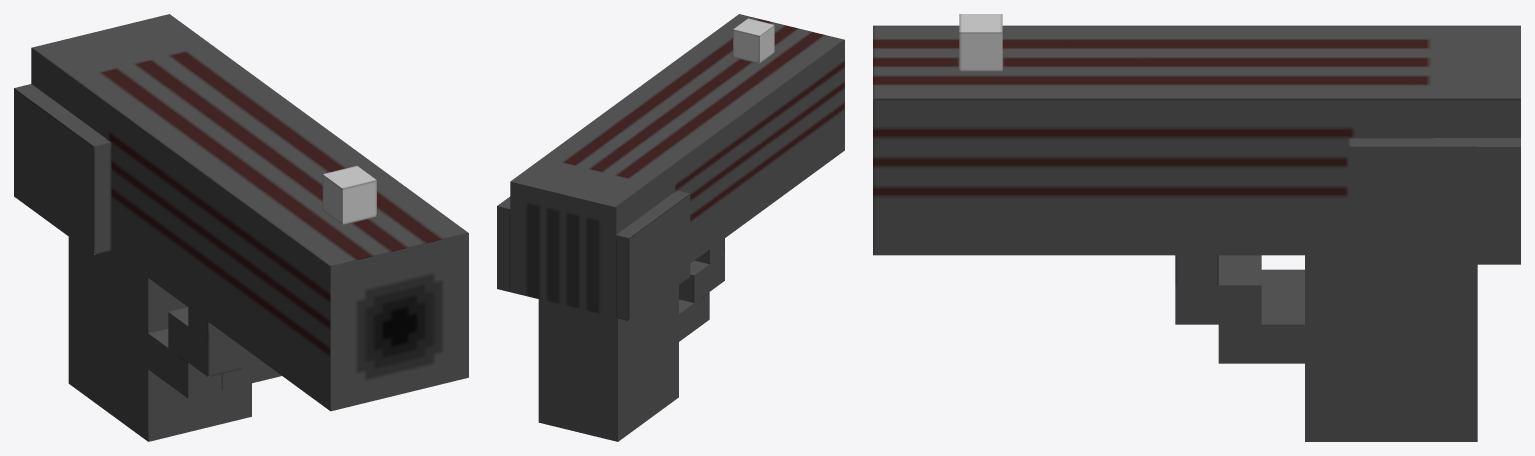
File: pistol.fbx
The picture shows the model from 3 angles, left to right: view 1: azimuth 30°, elevation 25°; view 2: azimuth 150°, elevation 25°; view 3: azimuth 270°, elevation 25°; orthographic projection. The views are drawn at different scales.
Parts seen in each view (by area): view 1: cube_13, cube_10, cube_11, cube_5, cube_12, cube_4, cube_1, cube_7; view 2: cube_13, cube_10, cube_11, cube_12, cube_5, cube_9, cube_4, cube_7; view 3: cube_13, cube_10, cube_9, cube_2, cube_3, cube_12, cube_8, cube_1, cube_4.
Part boxes in pixels (x1,y1,x2,y2): cube_13: (31,14,468,411); cube_10: (68,237,251,441); cube_11: (14,84,111,254); cube_5: (168,307,242,377); cube_12: (322,166,376,224); cube_4: (148,329,222,398); cube_1: (223,365,257,390); cube_7: (188,307,227,340); cube_13: (510,14,844,317); cube_10: (538,285,678,441); cube_11: (616,190,690,320); cube_12: (733,18,774,63); cube_5: (679,253,724,302); cube_9: (497,196,510,291); cube_4: (679,292,709,341); cube_7: (695,238,724,264); cube_13: (873,25,1520,255); cube_10: (1305,255,1477,441); cube_9: (1348,138,1520,264); cube_2: (1175,267,1261,324); cube_3: (1218,306,1304,363); cube_12: (959,14,1002,71); cube_8: (1175,255,1218,285); cube_1: (1261,288,1304,306); cube_4: (1261,269,1304,287).
Size of the model in its own units: 500 by 1000 by 1500.
1 material, 1 textured.
